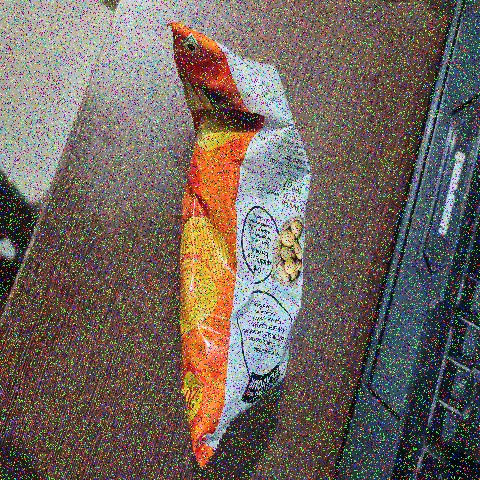lays_orange_pack: (136, 6, 346, 465)
